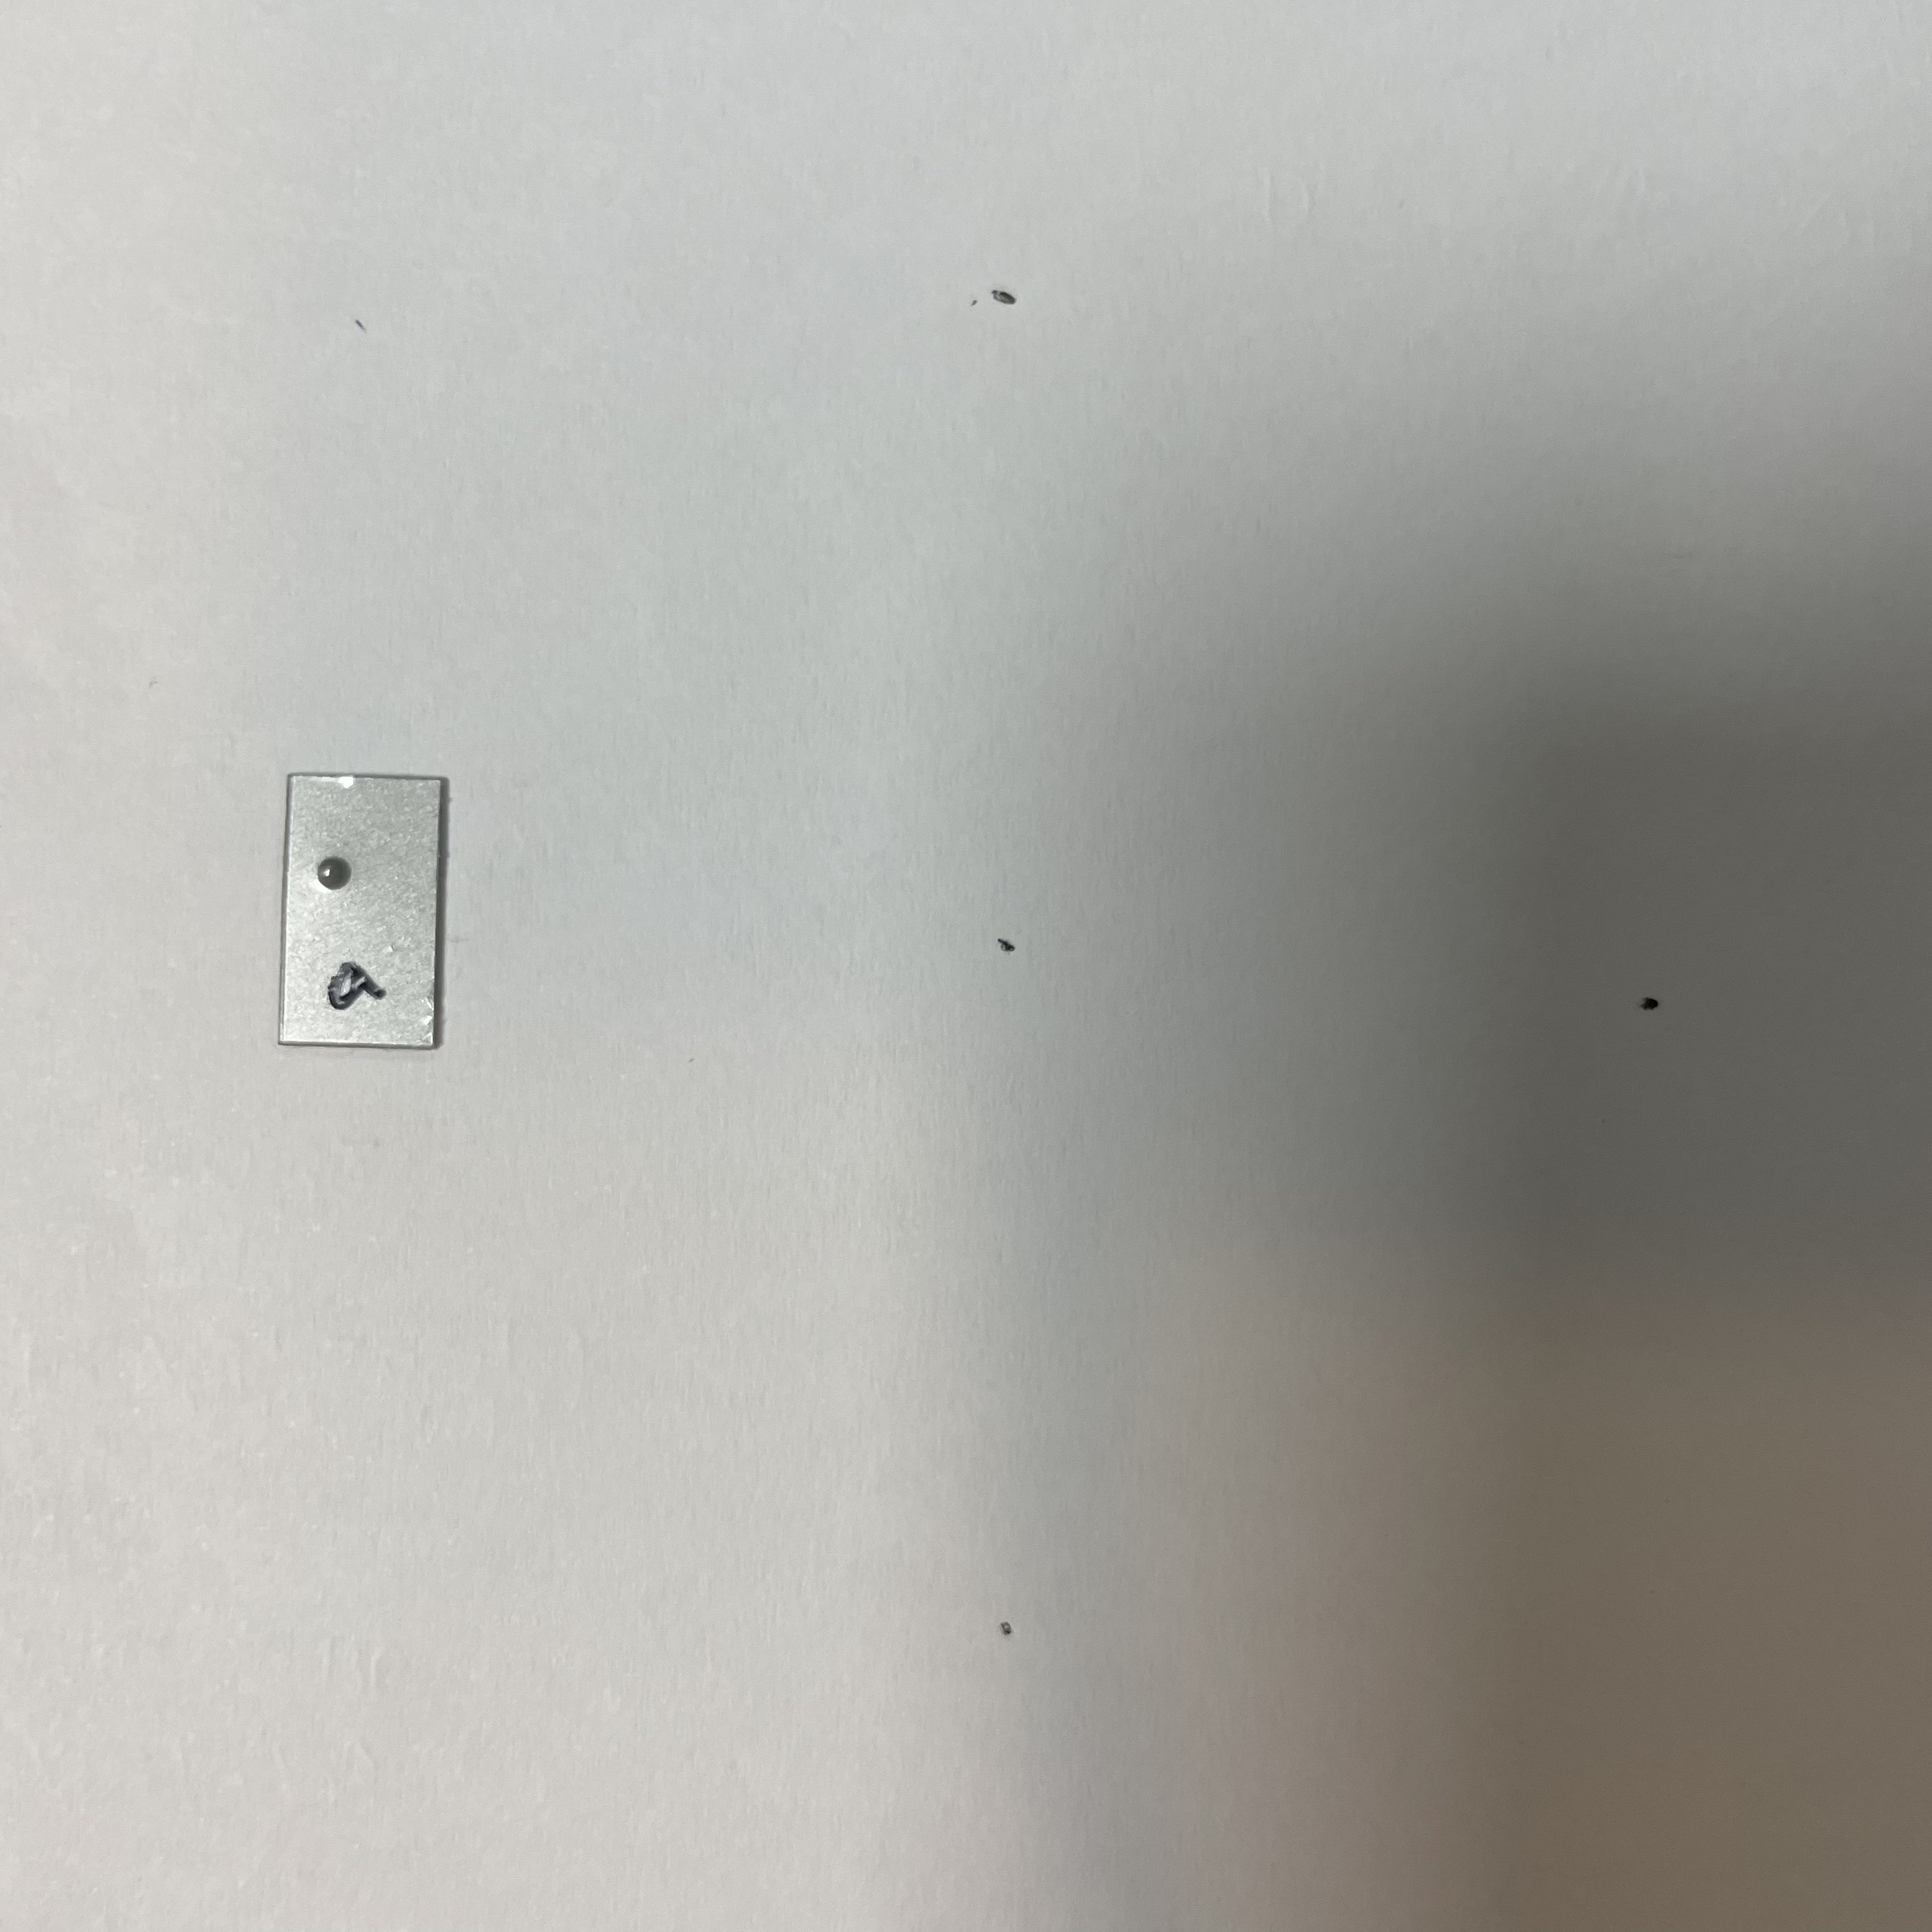a: (303, 838, 414, 968)
